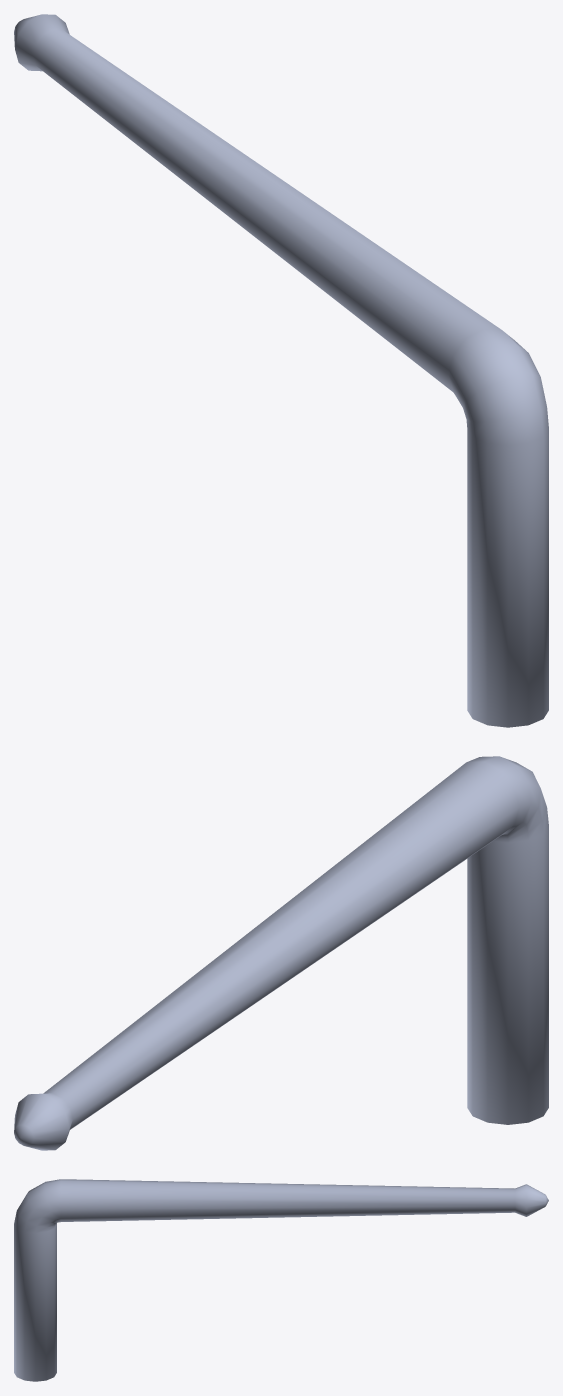
File: dowsing_rod_0307.fbx
The picture shows the model from 3 angles, top to bottom: view 1: azimuth 30°, elevation 25°; view 2: azimuth 150°, elevation 25°; view 3: azimuth 270°, elevation 25°; orthographic projection. The views are drawn at different scales.
Visible parts, largest first — view 1: dowsing rod; view 2: dowsing rod; view 3: dowsing rod.
Part boxes in pixels (x1=…): dowsing rod: x1=14, y1=14, x2=548, y2=727; dowsing rod: x1=14, y1=756, x2=548, y2=1150; dowsing rod: x1=14, y1=1179, x2=548, y2=1381.
Bounding box in the file's own units: 0.0123 × 0.0565 × 0.143.
